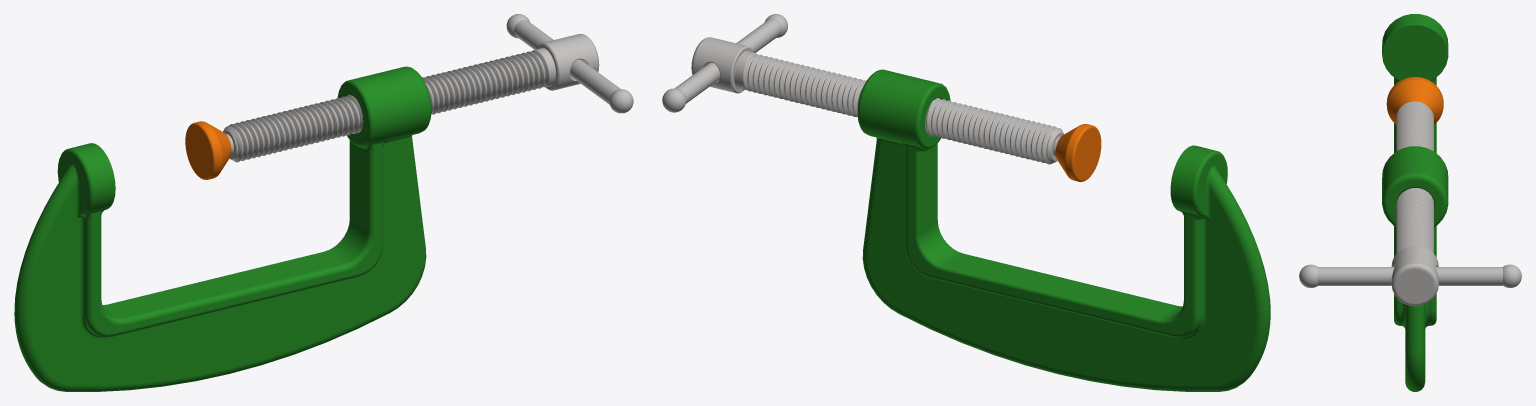
3 views of the same model, side by side, from view 1: azimuth 30°, elevation 25°; view 2: azimuth 150°, elevation 25°; view 3: azimuth 270°, elevation 25° (orthographic). The views are drawn at different scales.
Parts seen in each view (by area): view 1: Solid2 (×4); view 2: Solid2 (×4); view 3: Solid2 (×4).
Part boxes in pixels (box(x1,y1,x2,y2)): Solid2 (×4): box(14, 14, 633, 391); Solid2 (×4): box(662, 14, 1270, 391); Solid2 (×4): box(1299, 14, 1521, 391).
Bounding box in the file's own units: 0.1352 × 0.0584 × 0.047.
